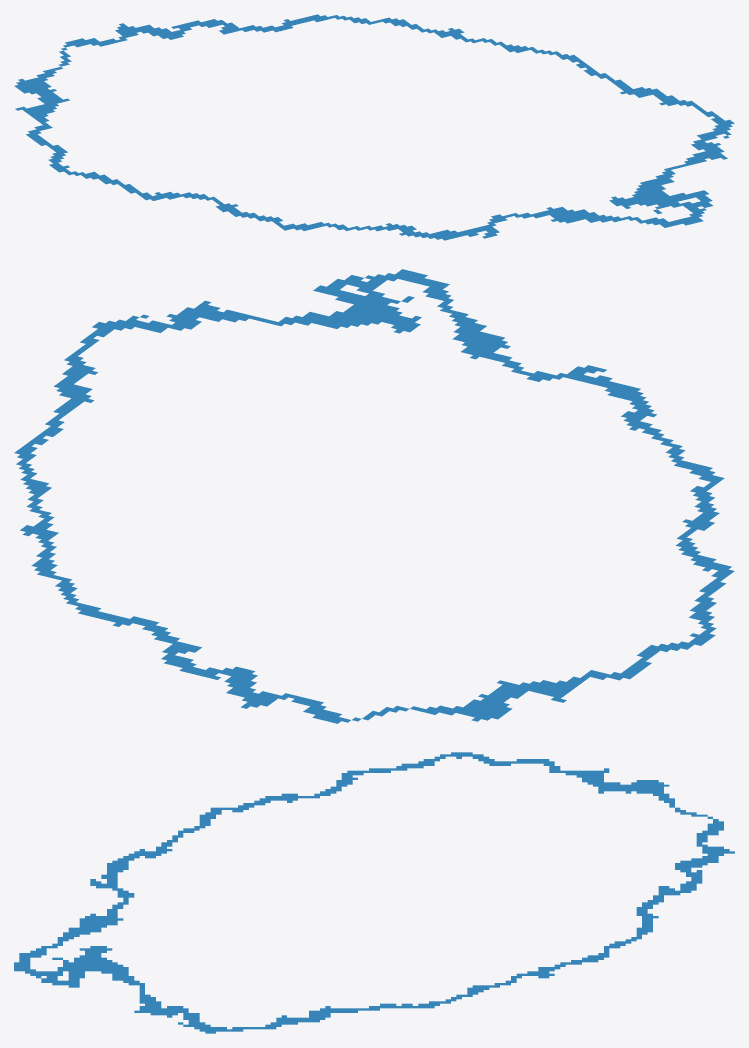
File: Isl-hilly3-PlaceForWaterObjects.fbx
The picture shows the model from 3 angles, top to bottom: view 1: azimuth 30°, elevation 25°; view 2: azimuth 150°, elevation 25°; view 3: azimuth 270°, elevation 25°; orthographic projection. The views are drawn at different scales.
Visible parts, largest first — view 1: Isl-hilly3-PlaceForWaterObjects; view 2: Isl-hilly3-PlaceForWaterObjects; view 3: Isl-hilly3-PlaceForWaterObjects.
Part boxes in pixels (bbox=[...]): Isl-hilly3-PlaceForWaterObjects: bbox=[14, 14, 734, 240]; Isl-hilly3-PlaceForWaterObjects: bbox=[14, 269, 734, 723]; Isl-hilly3-PlaceForWaterObjects: bbox=[14, 752, 734, 1033].
Bounding box in the file's own units: 122 × 0 × 132.
